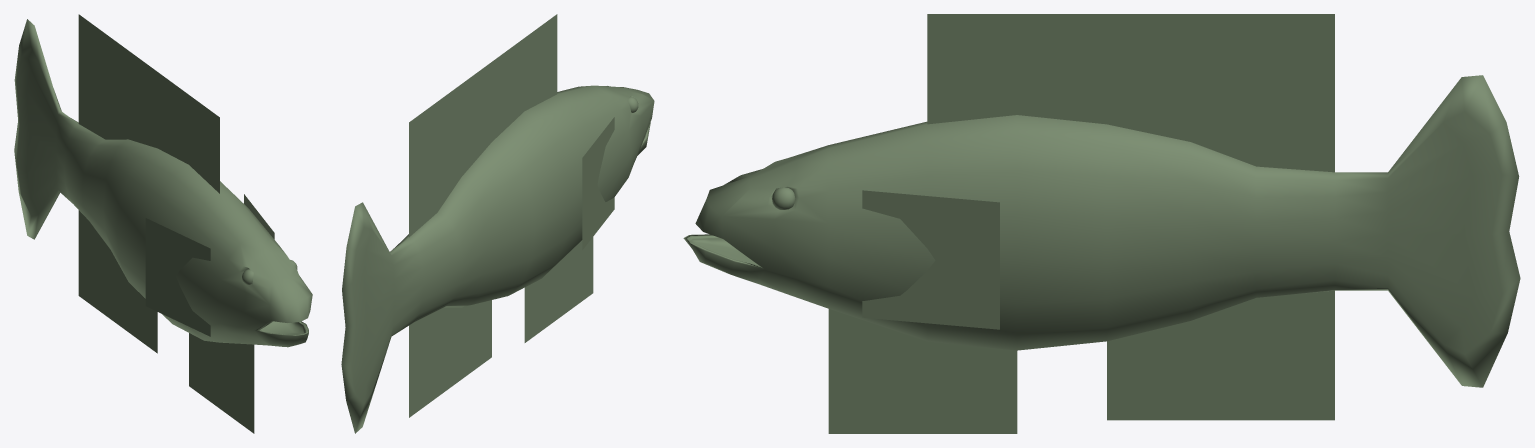
Rendered from seaBass.fbx.
3 views of the same model, side by side, from view 1: azimuth 30°, elevation 25°; view 2: azimuth 150°, elevation 25°; view 3: azimuth 270°, elevation 25° (orthographic). The views are drawn at different scales.
Parts seen in each view (by area): view 1: fish_GEO; view 2: fish_GEO; view 3: fish_GEO.
Boxes of the visible parts, x1,y1,x2,y2 form: fish_GEO: [14, 14, 312, 433]; fish_GEO: [341, 14, 654, 433]; fish_GEO: [683, 14, 1520, 433].
Bounding box in the file's own units: 21.15 × 59.87 × 108.
